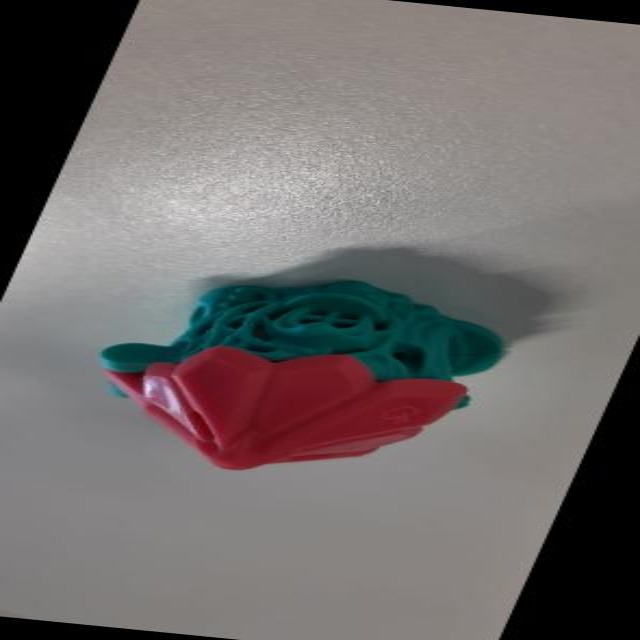House: (33, 254, 549, 506)
